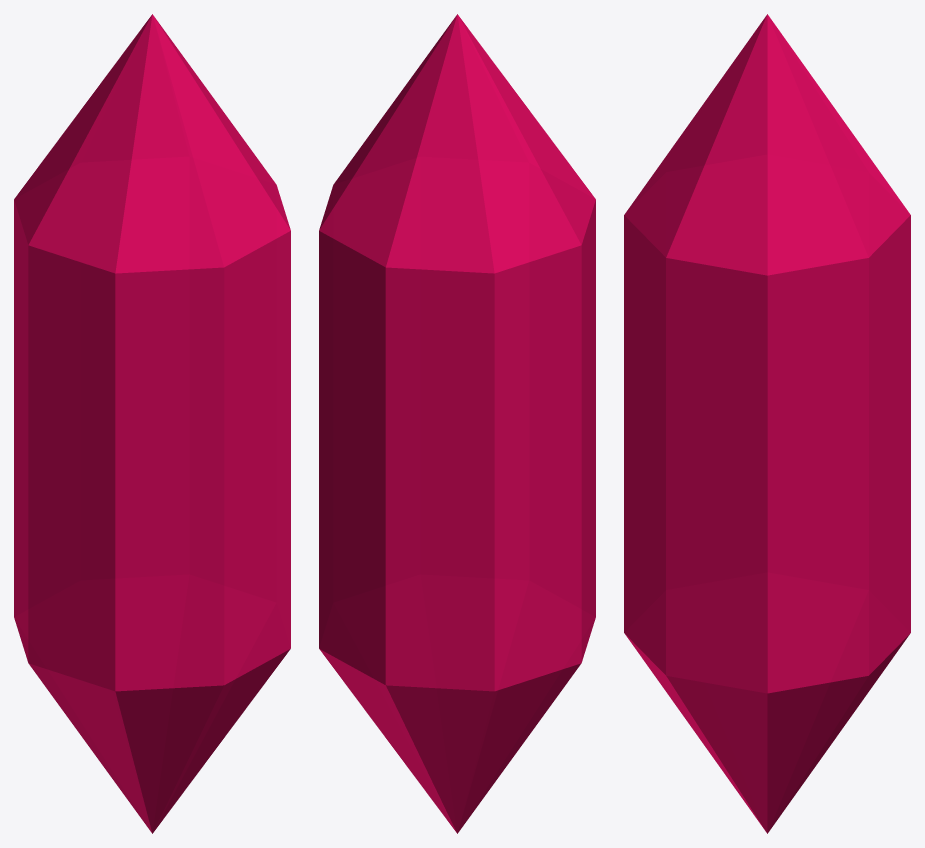
The model's file is sm_jewel_3.fbx.
3 views of the same model, side by side, from view 1: azimuth 30°, elevation 25°; view 2: azimuth 150°, elevation 25°; view 3: azimuth 270°, elevation 25° (orthographic).
Visible parts, largest first — view 1: pCylinder2; view 2: pCylinder2; view 3: pCylinder2.
Boxes of the visible parts, x1=… form: pCylinder2: x1=14, y1=14, x2=290, y2=833; pCylinder2: x1=319, y1=14, x2=595, y2=833; pCylinder2: x1=624, y1=14, x2=910, y2=833.
Bounding box in the file's own units: 124 × 392 × 124.
